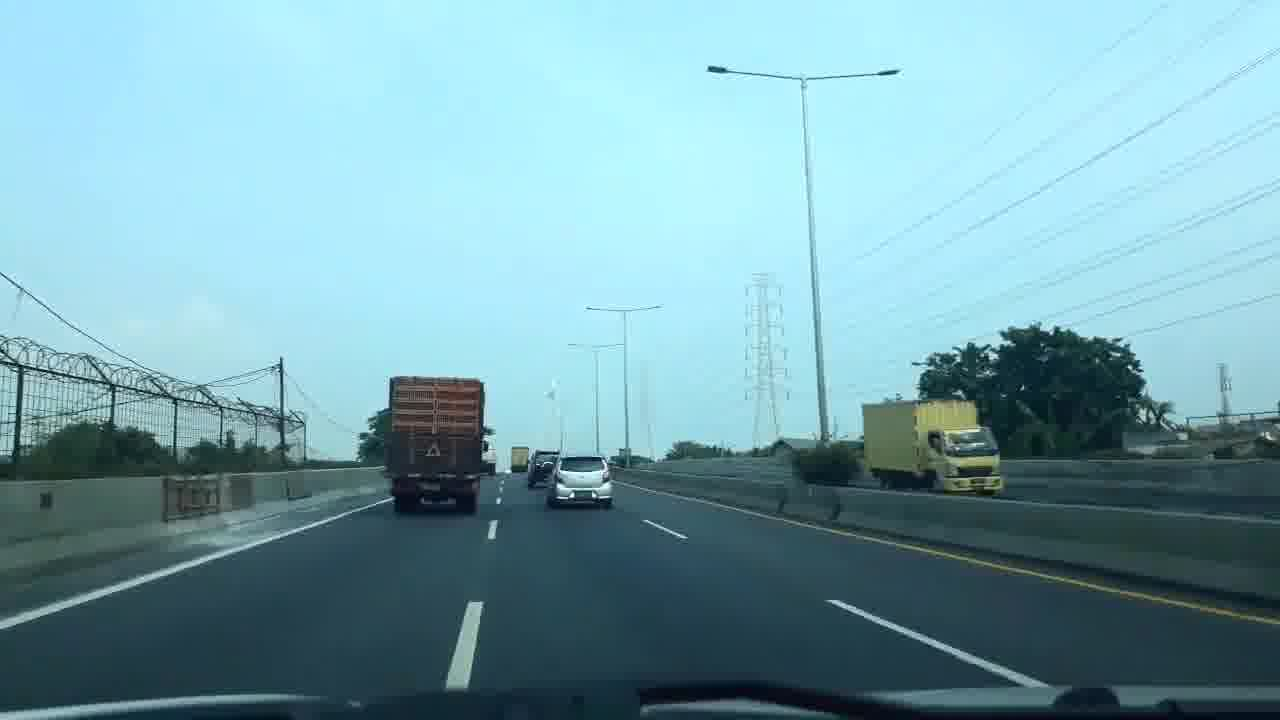plate_positive: (421, 482, 441, 491), (575, 491, 592, 499)
